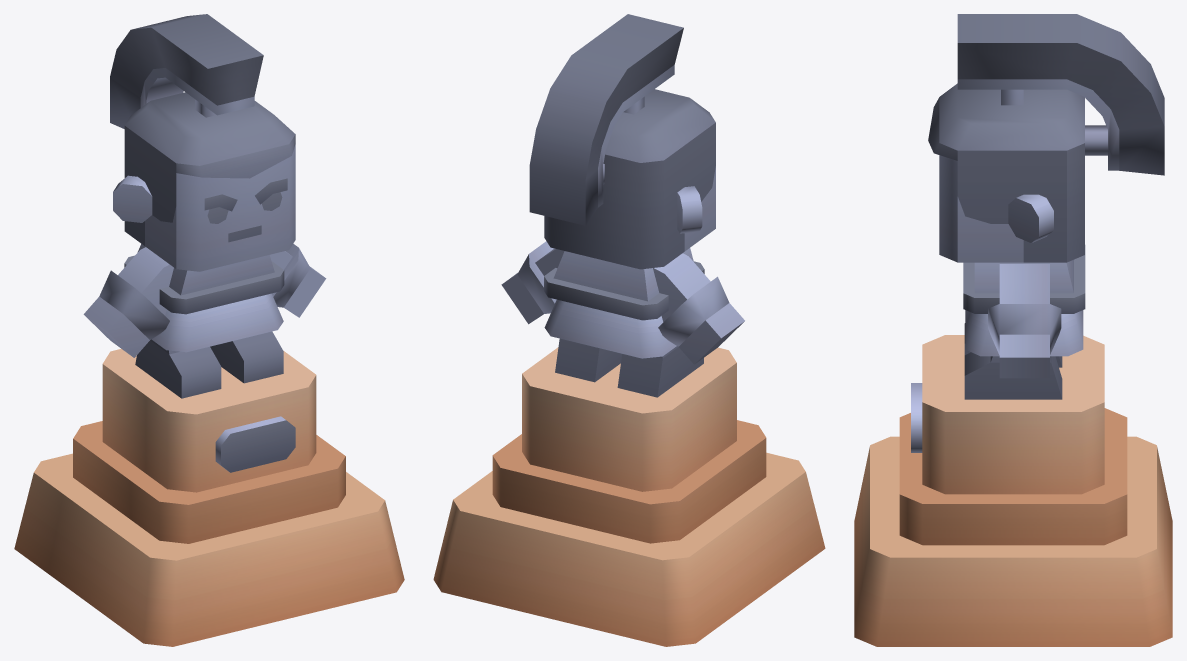
The model's file is statue-001.glb.
3 views of the same model, side by side, from view 1: azimuth 30°, elevation 25°; view 2: azimuth 150°, elevation 25°; view 3: azimuth 270°, elevation 25° (orthographic). The views are drawn at different scales.
Parts seen in each view (by area): view 1: statue; view 2: statue; view 3: statue.
Part boxes in pixels (x1=…): statue: x1=14, y1=14, x2=404, y2=646; statue: x1=433, y1=14, x2=825, y2=646; statue: x1=854, y1=14, x2=1172, y2=646.
Bounding box in the file's own units: 0.7001 × 1.34 × 0.7001.
1 material, 1 textured.
